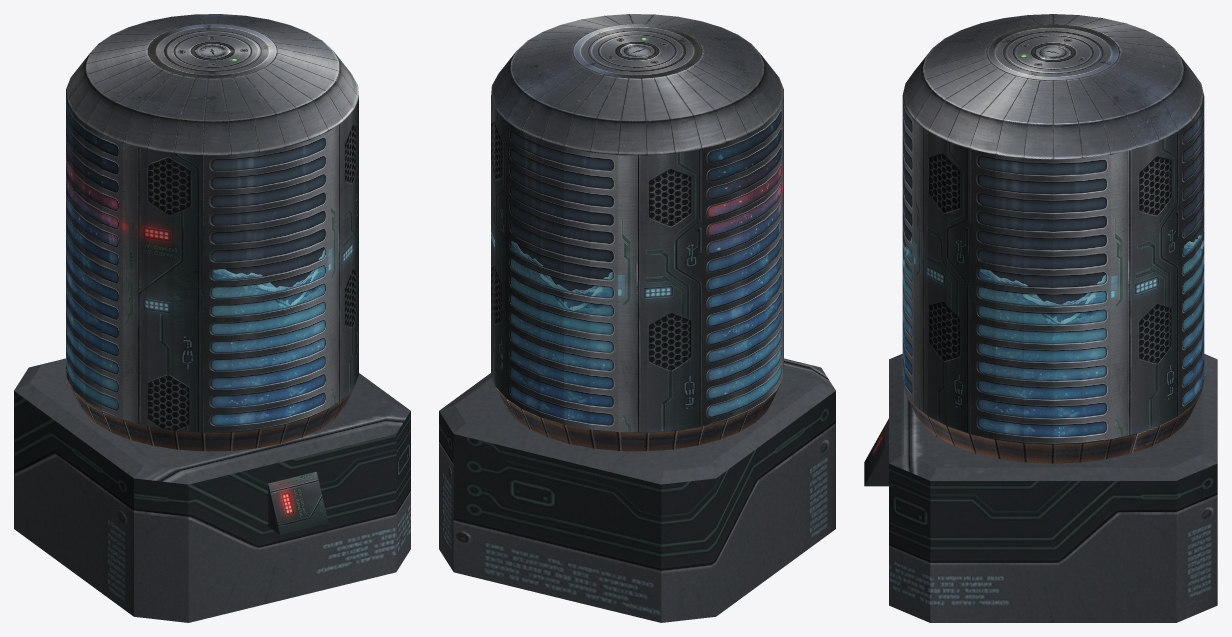
File: coolingtank.glb
3 views of the same model, side by side, from view 1: azimuth 30°, elevation 25°; view 2: azimuth 150°, elevation 25°; view 3: azimuth 270°, elevation 25° (orthographic). The views are drawn at different scales.
Parts seen in each view (by area): view 1: CoolingTankFluidContainer, CoolingTankBase; view 2: CoolingTankFluidContainer, CoolingTankBase; view 3: CoolingTankFluidContainer, CoolingTankBase.
Part boxes in pixels (x1,y1,x2,y2): CoolingTankFluidContainer: (66,14,358,451); CoolingTankBase: (14,358,410,622); CoolingTankFluidContainer: (491,14,783,451); CoolingTankBase: (439,358,835,622); CoolingTankFluidContainer: (902,14,1204,463); CoolingTankBase: (864,354,1217,622).
Size of the model in its own units: 1.94 by 3.26 by 2.09.
Materials: 1 (1 with a texture image).
